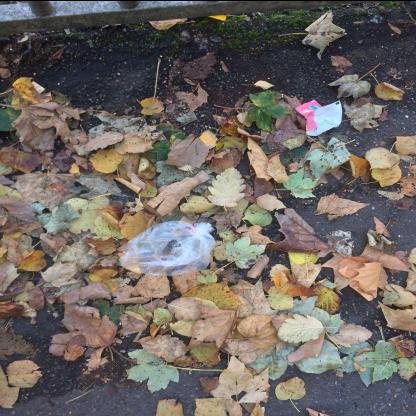plastik: (118, 221, 218, 277), (296, 99, 344, 137)
